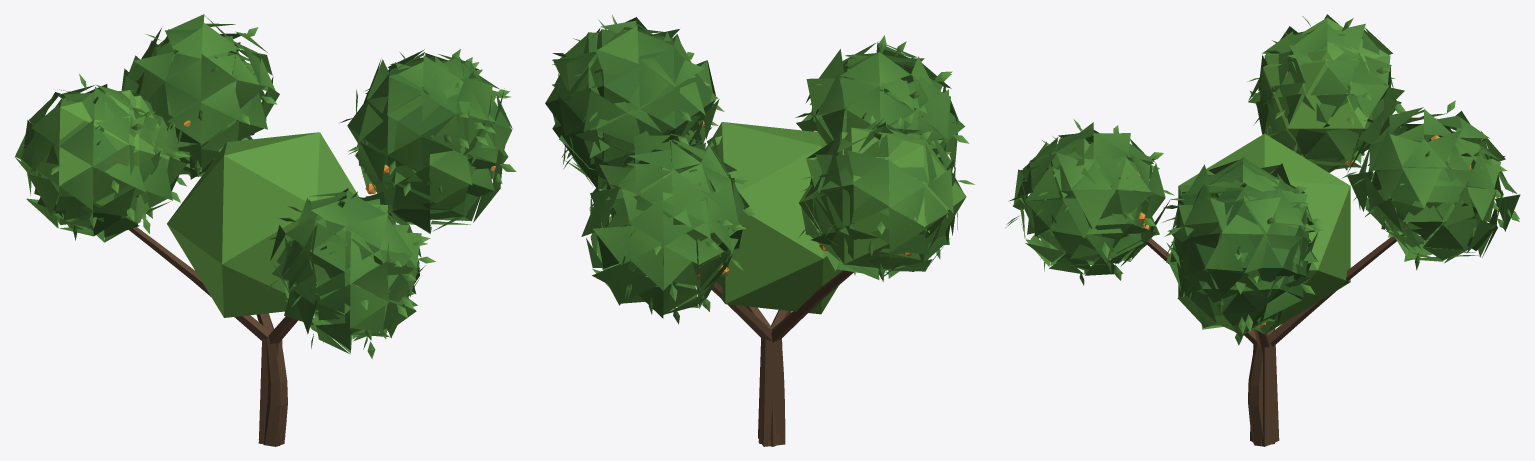
The model's file is peach.glb.
The picture shows the model from 3 angles, left to right: view 1: azimuth 30°, elevation 25°; view 2: azimuth 150°, elevation 25°; view 3: azimuth 270°, elevation 25°; orthographic projection. The views are drawn at different scales.
Parts seen in each view (by area): view 1: leaves (×3), trunk; view 2: leaves (×3), trunk; view 3: leaves (×3), trunk.
Boxes of the visible parts, box(x1,y1,x2,y2) form: leaves (×3): box(15, 14, 516, 445); trunk: box(129, 160, 297, 446); leaves (×3): box(545, 15, 974, 446); trunk: box(710, 270, 853, 445); leaves (×3): box(1005, 14, 1520, 446); trunk: box(1140, 233, 1404, 446).
Size of the model in its own units: 1.24 by 1 by 1.32.
